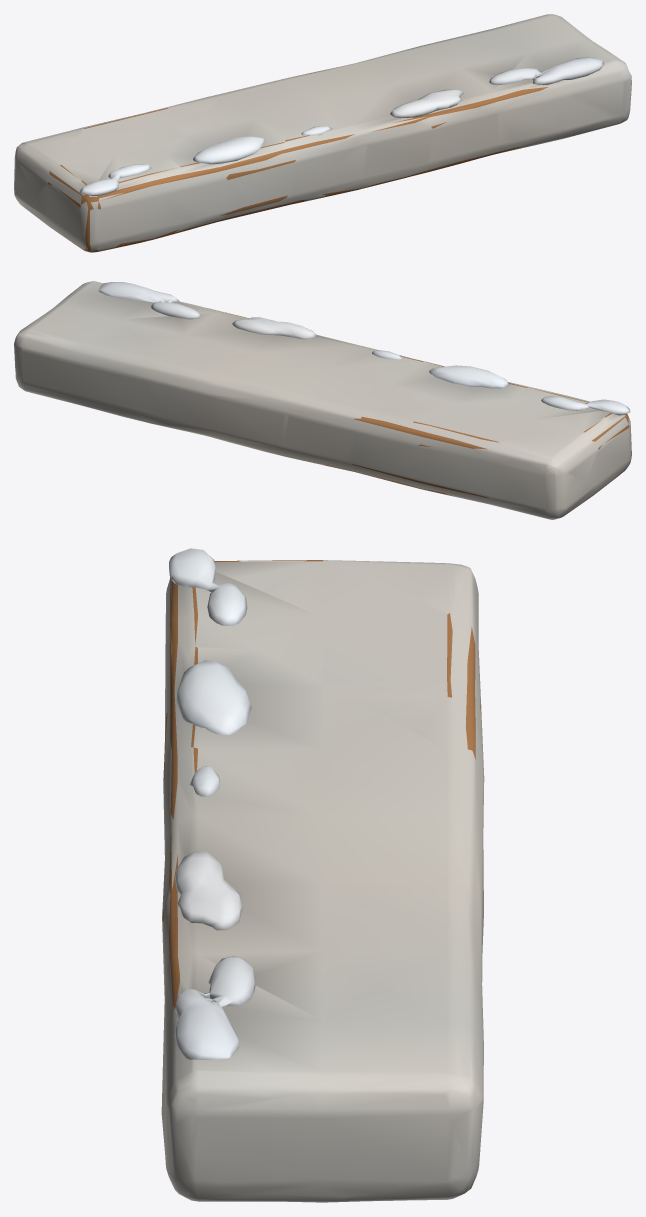
Rendered from frost_frame_rail.glb.
3 renders of one model, top to bottom at view 1: azimuth 30°, elevation 25°; view 2: azimuth 150°, elevation 25°; view 3: azimuth 270°, elevation 25°, orthographic. The views are drawn at different scales.
Visible parts, largest first — view 1: frost_frame_rail; view 2: frost_frame_rail; view 3: frost_frame_rail.
Boxes of the visible parts, <box> form: frost_frame_rail: <box>14,14,631,252</box>; frost_frame_rail: <box>14,281,631,519</box>; frost_frame_rail: <box>161,548,484,1202</box>.
Bounding box in the file's own units: 20.03 × 2.53 × 5.08.
